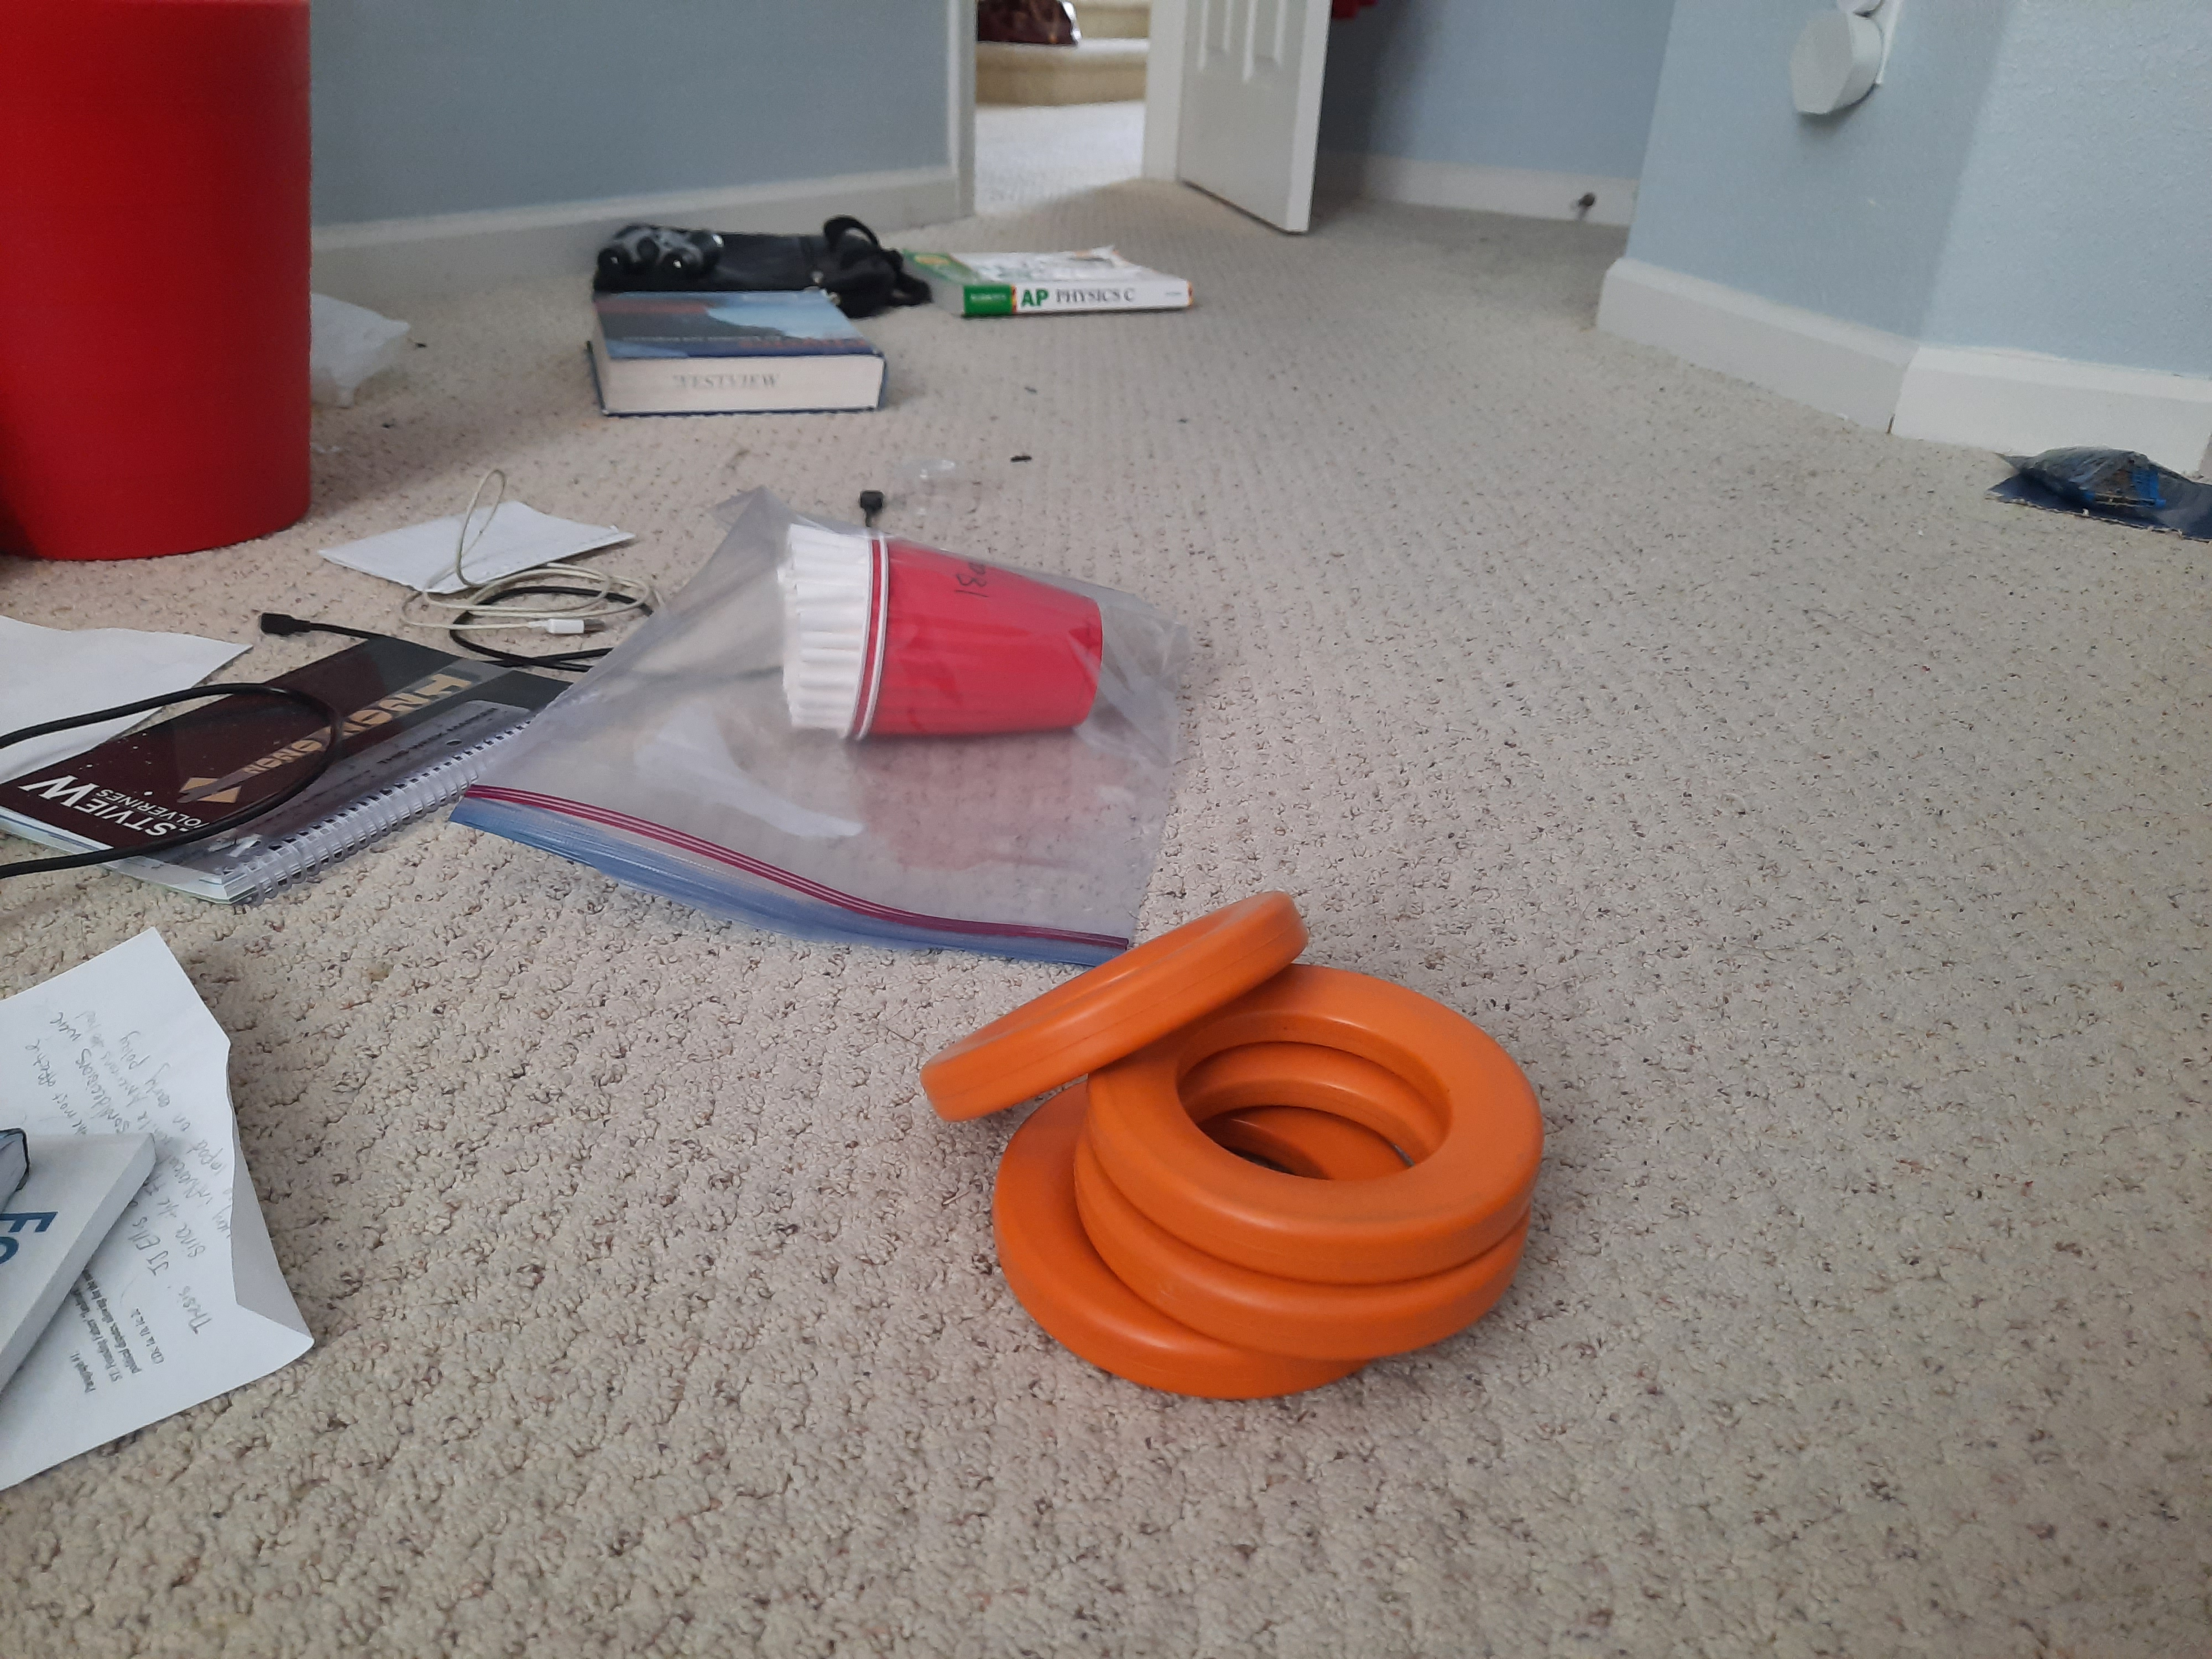FourStack: (981, 943, 1521, 1408)
